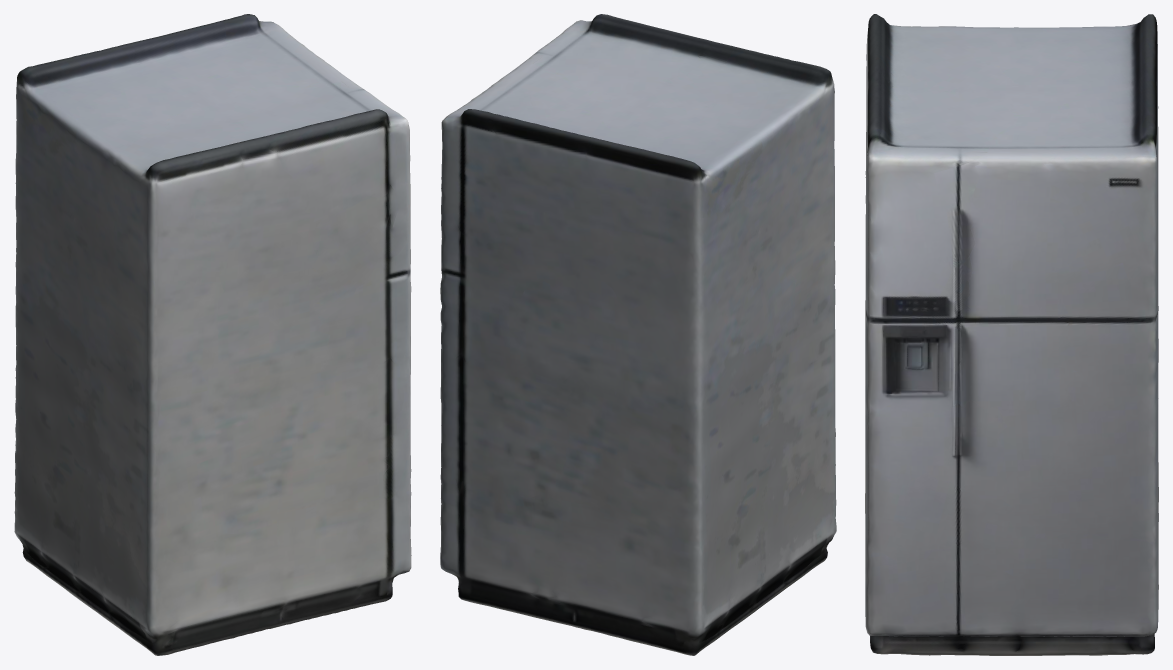
Rendered from refrigerator_draft.glb.
3 views of the same model, side by side, from view 1: azimuth 30°, elevation 25°; view 2: azimuth 150°, elevation 25°; view 3: azimuth 270°, elevation 25° (orthographic). The views are drawn at different scales.
Parts seen in each view (by area): view 1: geometry_0; view 2: geometry_0; view 3: geometry_0.
Boxes of the visible parts, bbox=[...] form: geometry_0: bbox=[14, 14, 411, 655]; geometry_0: bbox=[440, 14, 836, 655]; geometry_0: bbox=[865, 14, 1158, 655].
Size of the model in its own units: 0.5259 by 0.942 by 0.4807.
1 material, 1 textured.
